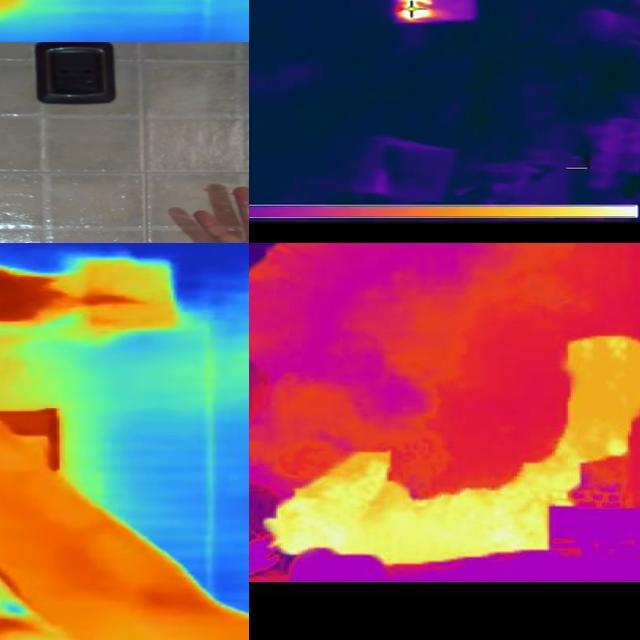fire: (250, 344, 640, 569), (1, 244, 63, 334), (390, 1, 452, 24)
